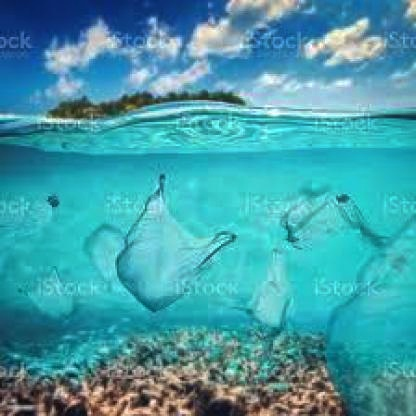pbag: (115, 172, 236, 314)
